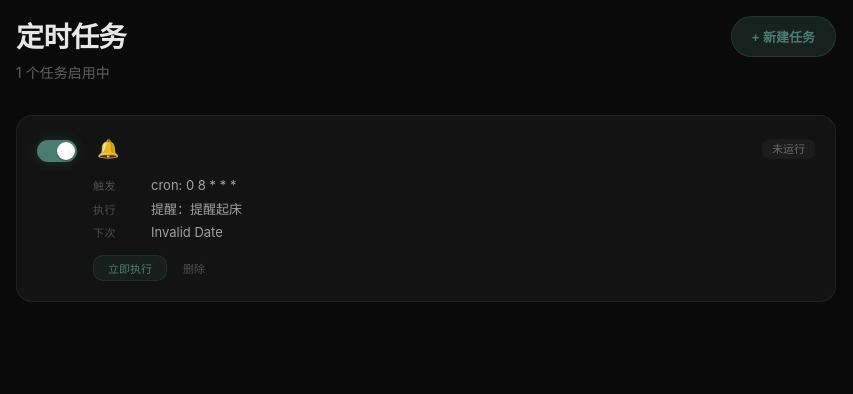
it: ScheduledTasksView › 立即执行成功：横幅显示回复文本；失败：横幅红色提示
Click the button "立即执行" at (130, 268), box left=93, top=254, right=167, bottom=280
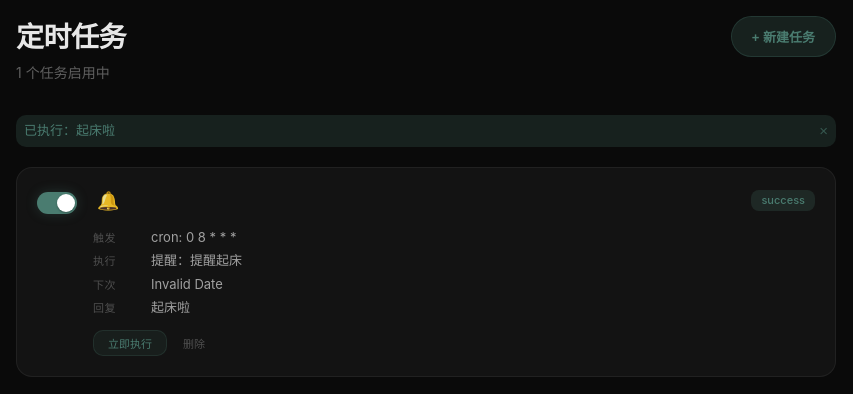
Check: the element with class "run-notice" is shown, box left=16, top=115, right=836, bottom=146
Check: the element with class "run-notice" shows "起床啦", box left=24, top=122, right=115, bottom=138
